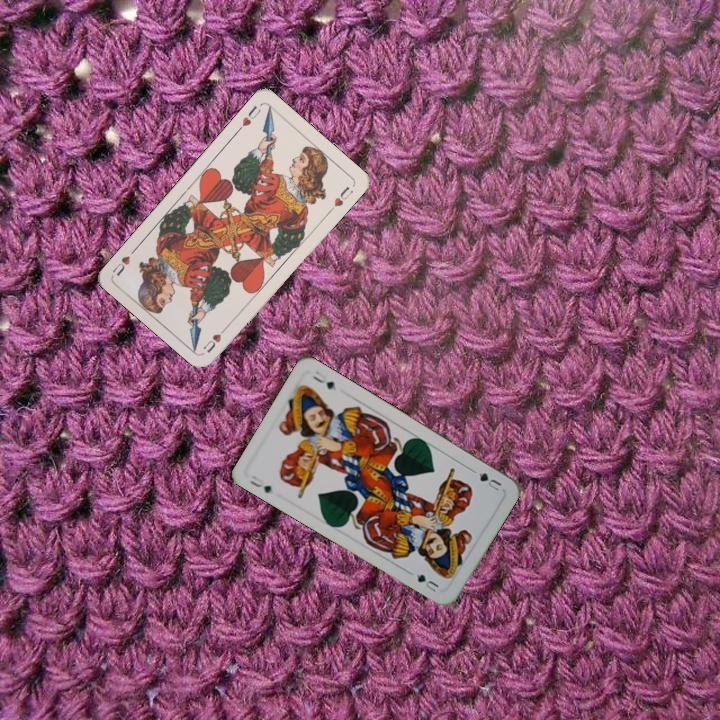GU: (469, 466, 504, 493), (246, 472, 274, 496)
HU: (199, 322, 231, 355), (233, 101, 264, 134)
